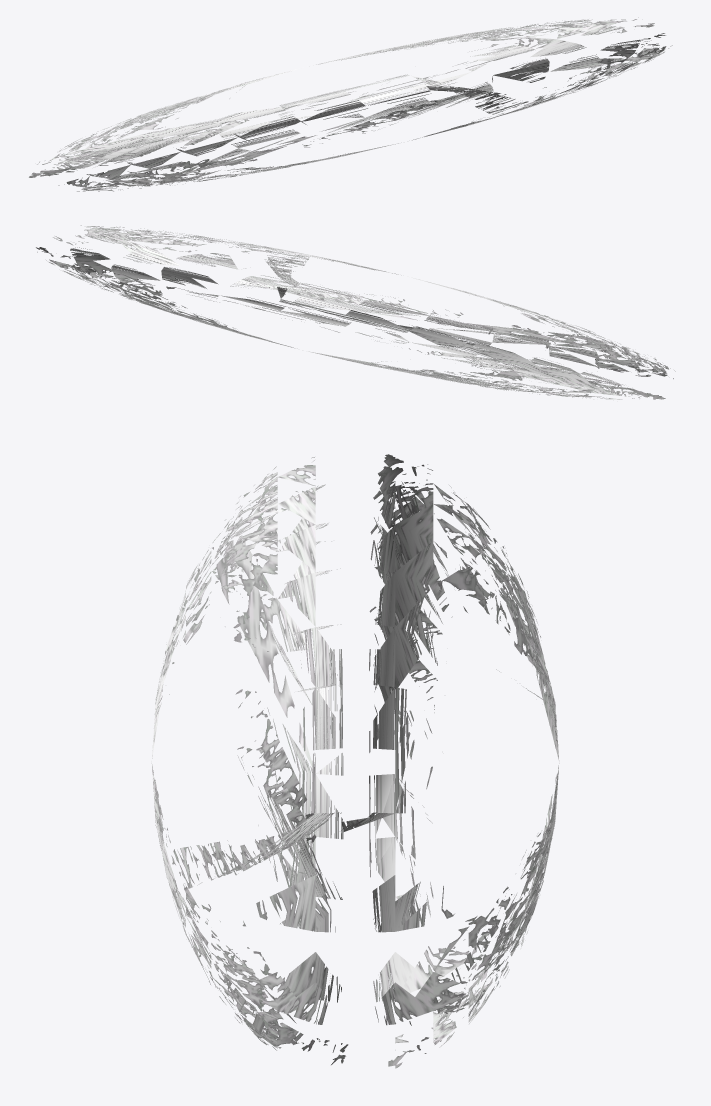
File: spiderman_tornado_sphere_02.glb
3 renders of one model, top to bottom at view 1: azimuth 30°, elevation 25°; view 2: azimuth 150°, elevation 25°; view 3: azimuth 270°, elevation 25°, orthographic. The views are drawn at different scales.
Visible parts, largest first — view 1: spiderman_tornado_sphere_02_0; view 2: spiderman_tornado_sphere_02_0; view 3: spiderman_tornado_sphere_02_0.
Boxes of the visible parts, x1,y1,x2,y2 form: spiderman_tornado_sphere_02_0: (29, 17, 672, 191); spiderman_tornado_sphere_02_0: (36, 225, 675, 399); spiderman_tornado_sphere_02_0: (151, 454, 559, 1068).
Bounding box in the file's own units: 97.59 × 2 × 25.47.
1 material, 1 textured.
